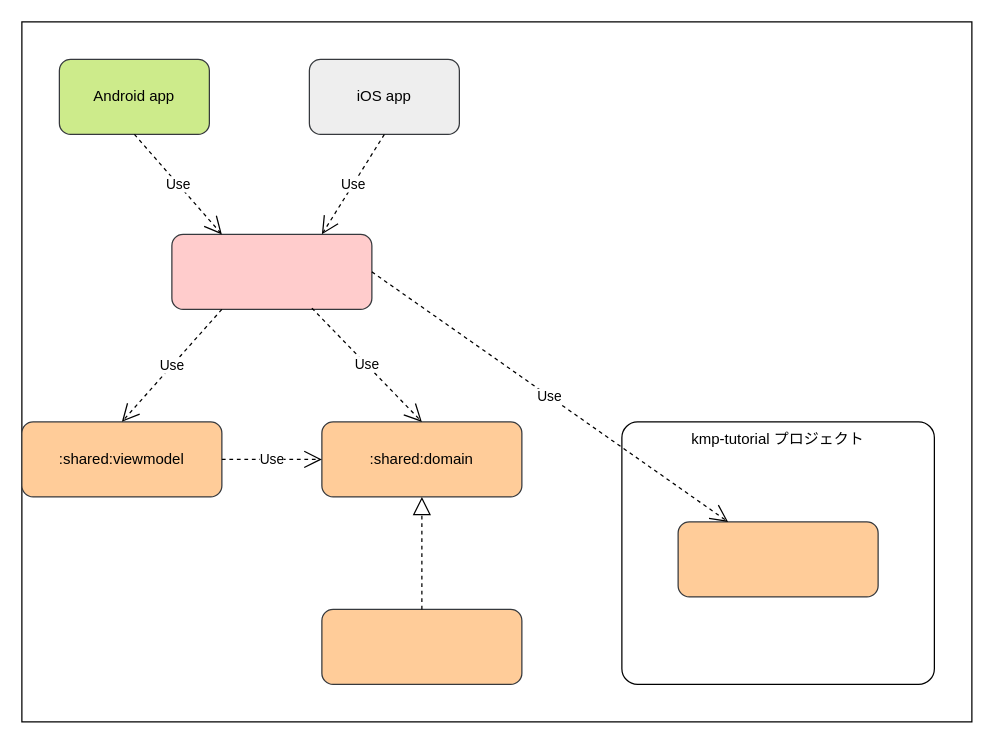
Image size: 994x744. Some labels were removed from this diagram. The centre of each missing label's shape, as x and y in pixels:
":kmp-tutorial-shared" belongs at point (777, 559).
":shared" belongs at point (271, 271).
":shared:data" belongs at point (421, 646).
